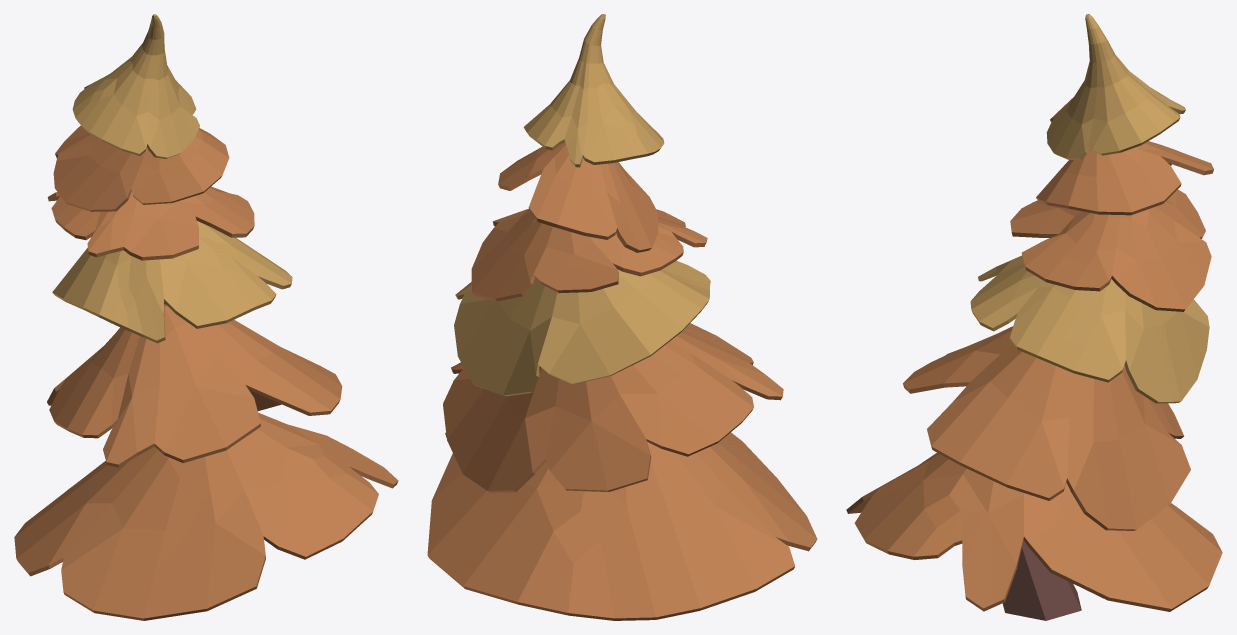
File: pinetree_autumn_3.glb
3 views of the same model, side by side, from view 1: azimuth 30°, elevation 25°; view 2: azimuth 150°, elevation 25°; view 3: azimuth 270°, elevation 25° (orthographic). The views are drawn at different scales.
Visible parts, largest first — view 1: PineTree_Autumn_3; view 2: PineTree_Autumn_3; view 3: PineTree_Autumn_3.
Part boxes in pixels (<box>): PineTree_Autumn_3: <box>14,14,398,620</box>; PineTree_Autumn_3: <box>427,14,817,620</box>; PineTree_Autumn_3: <box>846,14,1222,620</box>.
Size of the model in its own units: 2.16 by 3.3 by 1.95.
